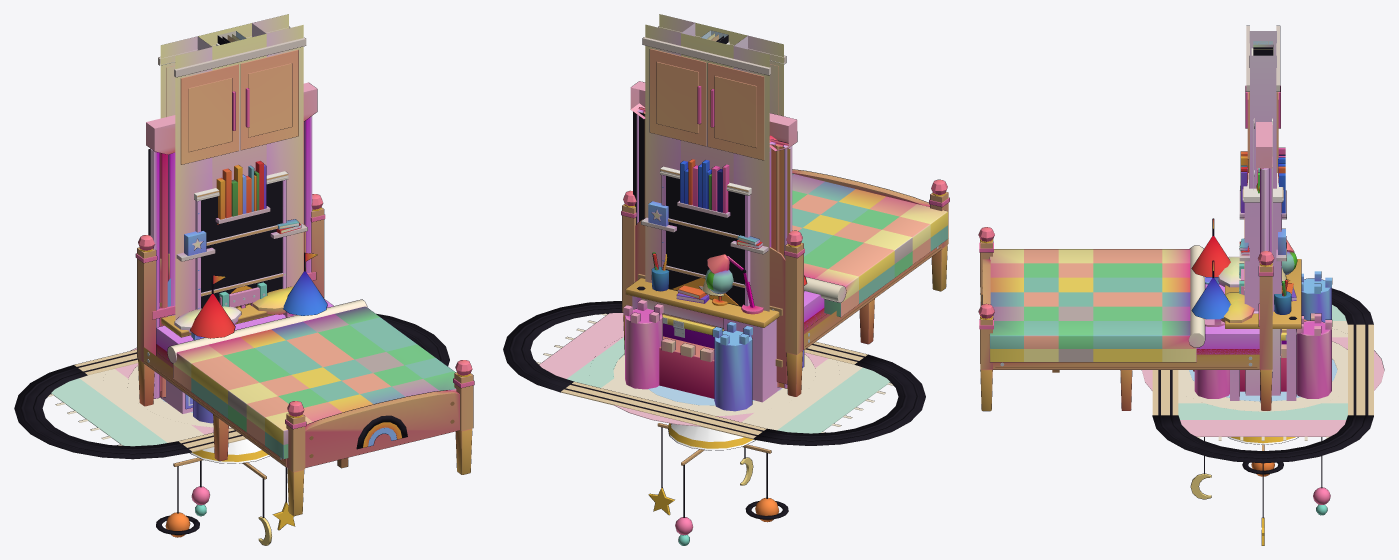
The model's file is fps-kit-bedroom.glb.
3 renders of one model, left to right at view 1: azimuth 30°, elevation 25°; view 2: azimuth 150°, elevation 25°; view 3: azimuth 270°, elevation 25°, orthographic. The views are drawn at different scales.
Parts seen in each view (by area): view 1: KIT_BEDROOM_Landmark_Bed, KIT_BEDROOM_GateFrame, KIT_BEDROOM_Window, KIT_BEDROOM_Bookcase_R, KIT_BEDROOM_TrackLoop, KIT_BEDROOM_Rug_Stripe, KIT_BEDROOM_ToyCastle, KIT_BEDROOM_Mobile, KIT_BEDROOM_Bookcase, KIT_BEDROOM_Desk, KIT_BEDROOM_Rug_Round, KIT_BEDROOM_CeilingLamp (+1 smaller); view 2: KIT_BEDROOM_GateFrame, KIT_BEDROOM_Landmark_Bed, KIT_BEDROOM_TrackLoop, KIT_BEDROOM_Rug_Stripe, KIT_BEDROOM_ToyCastle, KIT_BEDROOM_Desk, KIT_BEDROOM_Bookcase, KIT_BEDROOM_Window, KIT_BEDROOM_Rug_Round, KIT_BEDROOM_Mobile, KIT_BEDROOM_CeilingLamp, KIT_BEDROOM_ToyChest_A (+1 smaller); view 3: KIT_BEDROOM_Landmark_Bed, KIT_BEDROOM_TrackLoop, KIT_BEDROOM_ToyCastle, KIT_BEDROOM_Rug_Stripe, KIT_BEDROOM_GateFrame, KIT_BEDROOM_Desk, KIT_BEDROOM_Rug_Round, KIT_BEDROOM_Bookcase, KIT_BEDROOM_Window, KIT_BEDROOM_Mobile, KIT_BEDROOM_CubeShelf, KIT_BEDROOM_Bookcase_R.
Boxes of the visible parts, left/top/right/bottom form: KIT_BEDROOM_Landmark_Bed: left=135, top=194, right=474, bottom=515; KIT_BEDROOM_GateFrame: left=158, top=14, right=307, bottom=320; KIT_BEDROOM_Window: left=146, top=82, right=317, bottom=398; KIT_BEDROOM_Bookcase_R: left=195, top=171, right=288, bottom=309; KIT_BEDROOM_TrackLoop: left=14, top=313, right=449, bottom=459; KIT_BEDROOM_Rug_Stripe: left=48, top=363, right=230, bottom=446; KIT_BEDROOM_ToyCastle: left=190, top=252, right=327, bottom=423; KIT_BEDROOM_Mobile: left=156, top=457, right=295, bottom=545; KIT_BEDROOM_Bookcase: left=194, top=174, right=288, bottom=309; KIT_BEDROOM_Desk: left=160, top=297, right=323, bottom=413; KIT_BEDROOM_Rug_Round: left=127, top=347, right=246, bottom=438; KIT_BEDROOM_CeilingLamp: left=190, top=439, right=269, bottom=463; KIT_BEDROOM_GateFrame: left=641, top=14, right=786, bottom=311; KIT_BEDROOM_Landmark_Bed: left=621, top=169, right=949, bottom=396; KIT_BEDROOM_TrackLoop: left=503, top=301, right=925, bottom=445; KIT_BEDROOM_Rug_Stripe: left=536, top=313, right=893, bottom=433; KIT_BEDROOM_ToyCastle: left=623, top=275, right=807, bottom=411; KIT_BEDROOM_Desk: left=625, top=252, right=781, bottom=402; KIT_BEDROOM_Bookcase: left=660, top=166, right=751, bottom=306; KIT_BEDROOM_Window: left=630, top=81, right=797, bottom=388; KIT_BEDROOM_Rug_Round: left=594, top=337, right=815, bottom=426; KIT_BEDROOM_Mobile: left=648, top=423, right=788, bottom=545; KIT_BEDROOM_CeilingLamp: left=668, top=423, right=755, bottom=450; KIT_BEDROOM_ToyChest_A: left=662, top=313, right=723, bottom=348; KIT_BEDROOM_Landmark_Bed: left=978, top=227, right=1274, bottom=411; KIT_BEDROOM_TrackLoop: left=1152, top=288, right=1373, bottom=463; KIT_BEDROOM_ToyCastle: left=1191, top=218, right=1332, bottom=398; KIT_BEDROOM_Rug_Stripe: left=1178, top=305, right=1347, bottom=440; KIT_BEDROOM_GateFrame: left=1239, top=25, right=1286, bottom=280; KIT_BEDROOM_Desk: left=1225, top=240, right=1301, bottom=400; KIT_BEDROOM_Rug_Round: left=1141, top=341, right=1384, bottom=411; KIT_BEDROOM_Bookcase: left=1242, top=173, right=1282, bottom=353; KIT_BEDROOM_Window: left=1256, top=122, right=1272, bottom=400; KIT_BEDROOM_Mobile: left=1190, top=437, right=1330, bottom=545; KIT_BEDROOM_CubeShelf: left=1245, top=329, right=1280, bottom=395; KIT_BEDROOM_Bookcase_R: left=1243, top=181, right=1283, bottom=310.
Bounding box in the file's own units: 22.35 × 26.77 × 20.8.
1 material, 1 textured.
